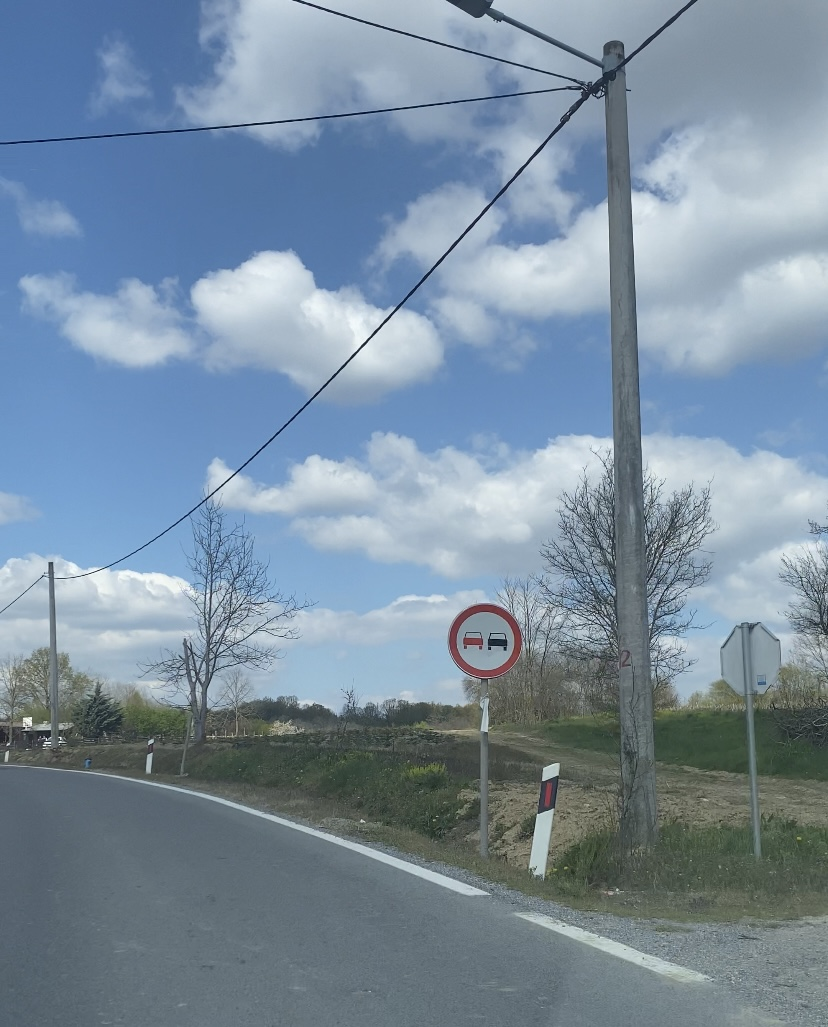Zabrana pretjecanja: (448, 603, 523, 678)
